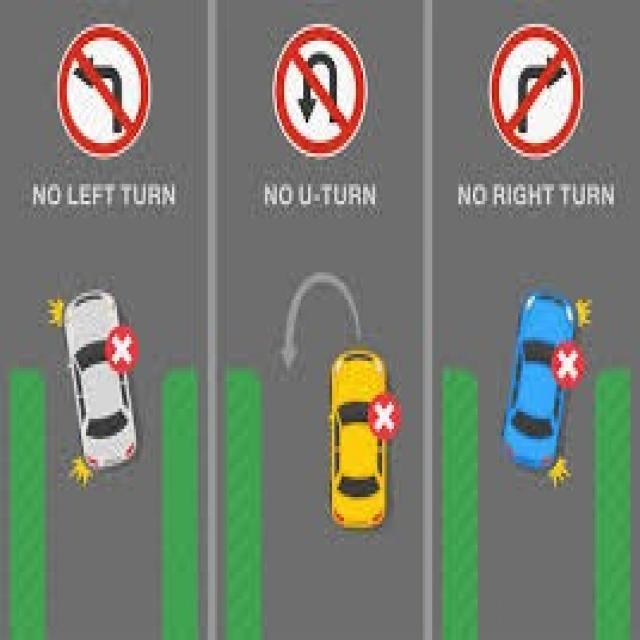do_not_turn_right: (476, 20, 591, 173)
